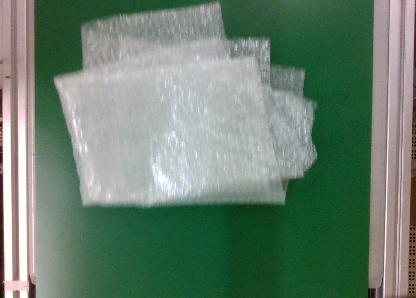Others: (55, 2, 319, 217)
